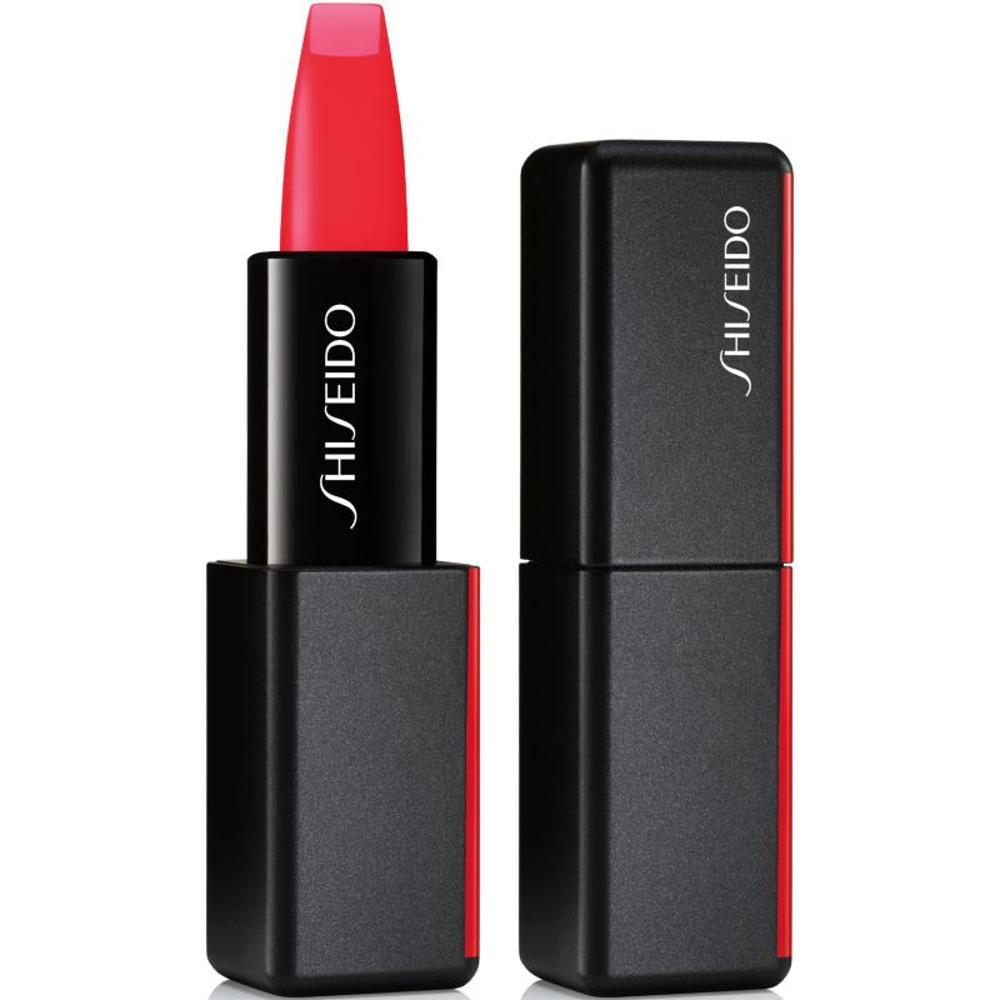lipstick: (208, 0, 494, 986)
